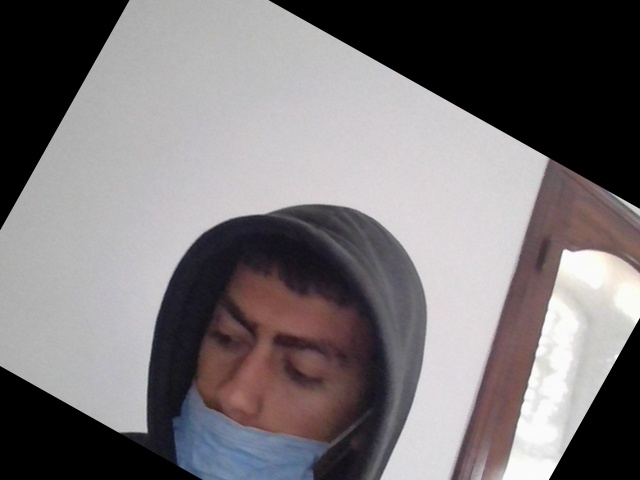mask_weared_incorrect: (171, 238, 375, 480)
